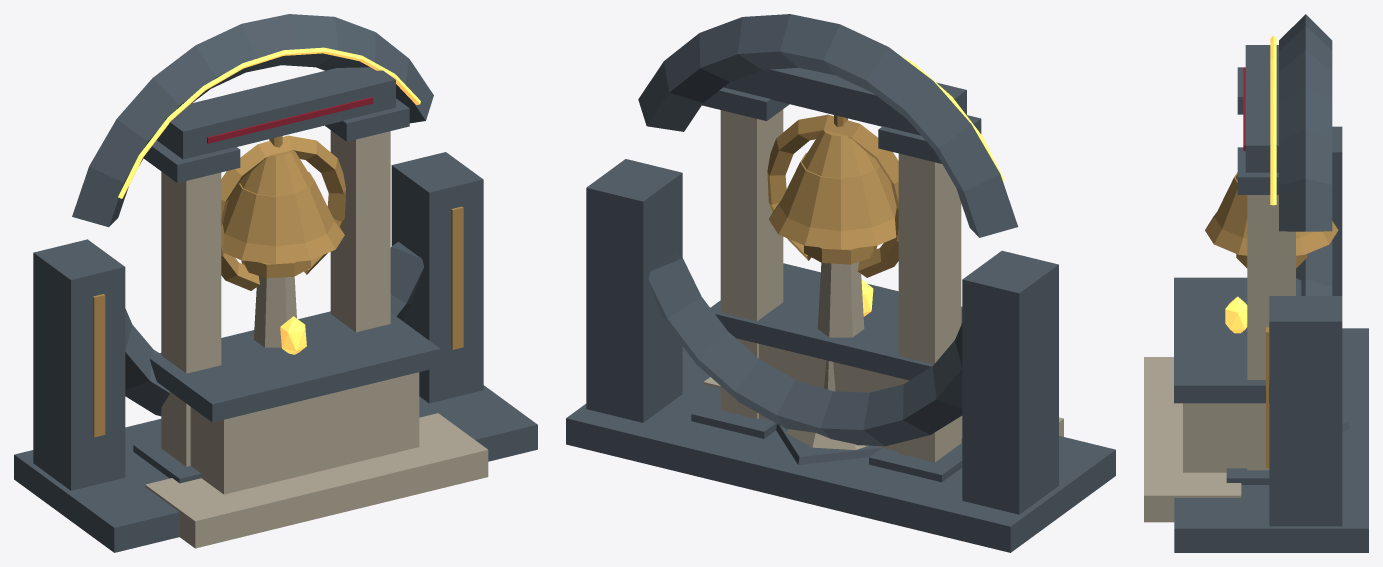
File: props-v6.glb
3 renders of one model, left to right at view 1: azimuth 30°, elevation 25°; view 2: azimuth 150°, elevation 25°; view 3: azimuth 270°, elevation 25°, orthographic. The views are drawn at different scales.
Visible parts, largest first — view 1: Altar standing stone, Broken eclipse left, Offering table, Altar pale stair, Offering tabletop, Altar standing stone.001, Altar plinth, Pale bell upright, Bell crossbeam, Pale bell upright.001, Bell mantle, Split moon cradle (+13 smaller); view 2: Altar plinth, Broken eclipse left, Altar standing stone, Altar standing stone.001, Broken eclipse right, Pale bell upright, Pale bell upright.001, Offering tabletop, Bell crossbeam, Bell mantle, Split moon cradle, Beacon column (+10 smaller); view 3: Altar standing stone.001, Altar plinth, Broken eclipse left, Offering tabletop, Pale bell upright.001, Altar pale stair, Offering table, Bell crossbeam, Altar standing stone, Bell flared lip, Broken eclipse right, Bell mantle (+6 smaller).
Part boxes in pixels (<box>): Altar standing stone: <box>33,239,125,490</box>; Broken eclipse left: <box>72,14,433,227</box>; Offering table: <box>190,372,419,494</box>; Altar pale stair: <box>145,413,488,548</box>; Offering tabletop: <box>149,311,440,422</box>; Altar standing stone.001: <box>391,152,483,403</box>; Altar plinth: <box>14,385,537,552</box>; Pale bell upright: <box>161,171,221,466</box>; Bell crossbeam: <box>157,67,395,159</box>; Pale bell upright.001: <box>330,130,390,332</box>; Bell mantle: <box>223,172,334,246</box>; Split moon cradle: <box>221,135,345,290</box>; Altar plinth: <box>566,346,1115,552</box>; Broken eclipse left: <box>638,14,1018,237</box>; Altar standing stone: <box>962,250,1058,514</box>; Altar standing stone.001: <box>586,159,682,422</box>; Broken eclipse right: <box>648,253,962,446</box>; Pale bell upright: <box>898,153,961,462</box>; Pale bell upright.001: <box>720,109,783,418</box>; Offering tabletop: <box>710,263,962,380</box>; Bell crossbeam: <box>723,67,966,135</box>; Bell mantle: <box>779,153,896,230</box>; Split moon cradle: <box>767,114,898,277</box>; Beacon column: <box>817,262,864,391</box>; Altar standing stone.001: <box>1269,296,1342,526</box>; Altar plinth: <box>1174,328,1368,552</box>; Broken eclipse left: <box>1279,14,1332,231</box>; Offering tabletop: <box>1174,277,1301,403</box>; Pale bell upright.001: <box>1247,195,1295,470</box>; Altar pale stair: <box>1144,357,1241,522</box>; Offering table: <box>1183,403,1247,472</box>; Bell crossbeam: <box>1245,45,1279,172</box>; Altar standing stone: <box>1332,126,1342,295</box>; Bell flared lip: <box>1205,212,1338,255</box>; Broken eclipse right: <box>1296,240,1332,295</box>; Bell mantle: <box>1214,172,1314,238</box>.
Bounding box in the file's own units: 3.9 × 3.8 × 1.85.
